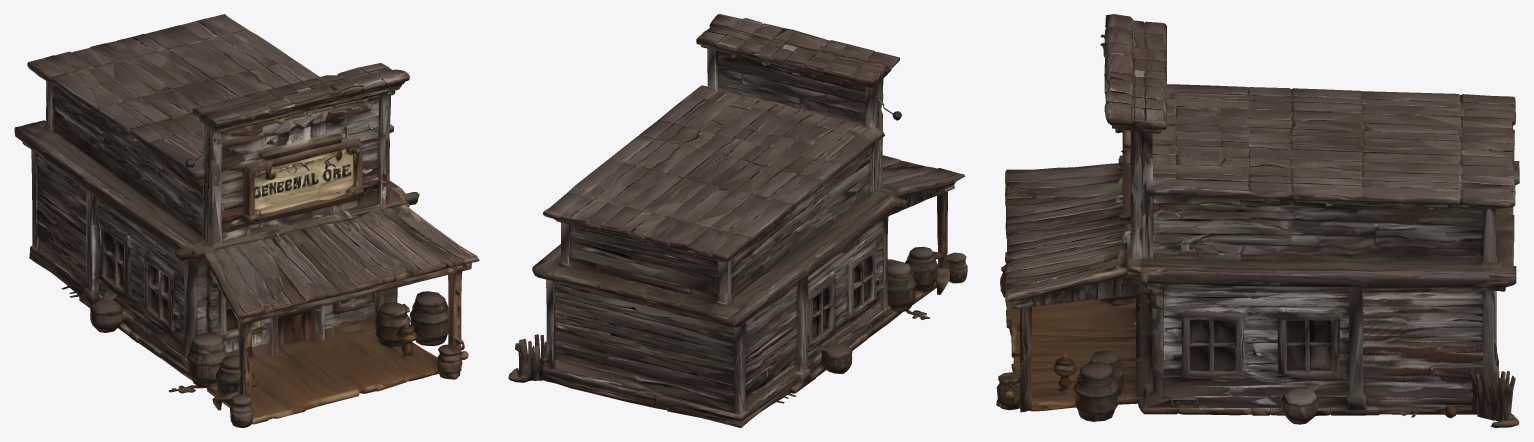
The model's file is bld_west_store1f.fbx.
3 renders of one model, left to right at view 1: azimuth 30°, elevation 25°; view 2: azimuth 150°, elevation 25°; view 3: azimuth 270°, elevation 25°, orthographic. The views are drawn at different scales.
Parts seen in each view (by area): view 1: bld_west_store1f_LOD0; view 2: bld_west_store1f_LOD0; view 3: bld_west_store1f_LOD0.
Boxes of the visible parts, x1,y1,x2,y2 form: bld_west_store1f_LOD0: (14, 14, 479, 427); bld_west_store1f_LOD0: (508, 14, 967, 427); bld_west_store1f_LOD0: (996, 14, 1519, 427).
Size of what is drawn, in the model's own units: 0.6474 by 0.6097 by 0.981.
